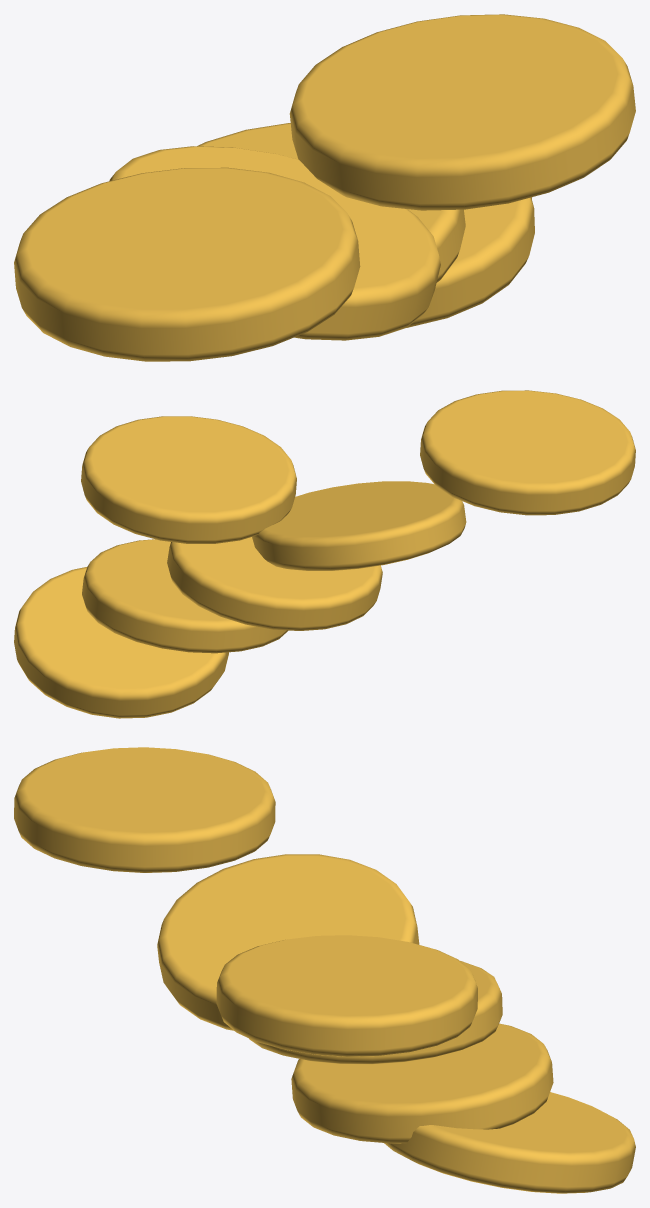
File: coin_find.glb
3 views of the same model, one above another, from view 1: azimuth 30°, elevation 25°; view 2: azimuth 150°, elevation 25°; view 3: azimuth 270°, elevation 25° (orthographic). The views are drawn at different scales.
Visible parts, largest first — view 1: coin_find; view 2: coin_find; view 3: coin_find.
Part boxes in pixels (x1,y1,x2,y2): coin_find: (14, 14, 635, 361); coin_find: (14, 390, 635, 718); coin_find: (14, 747, 635, 1193).
Bounding box in the file's own units: 0.5716 × 0.2488 × 0.5713.
